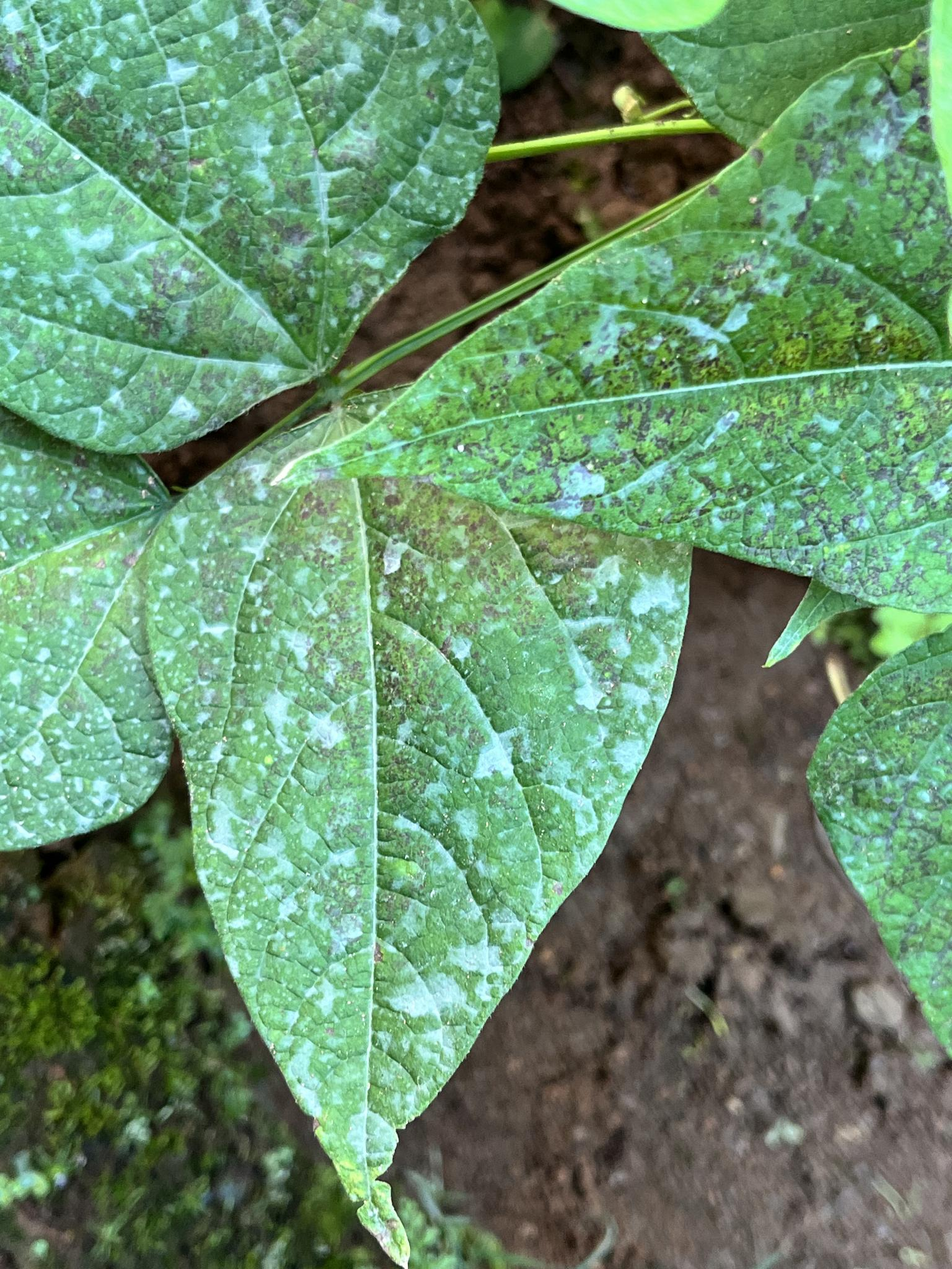embun tepung: (3, 0, 952, 1265)
